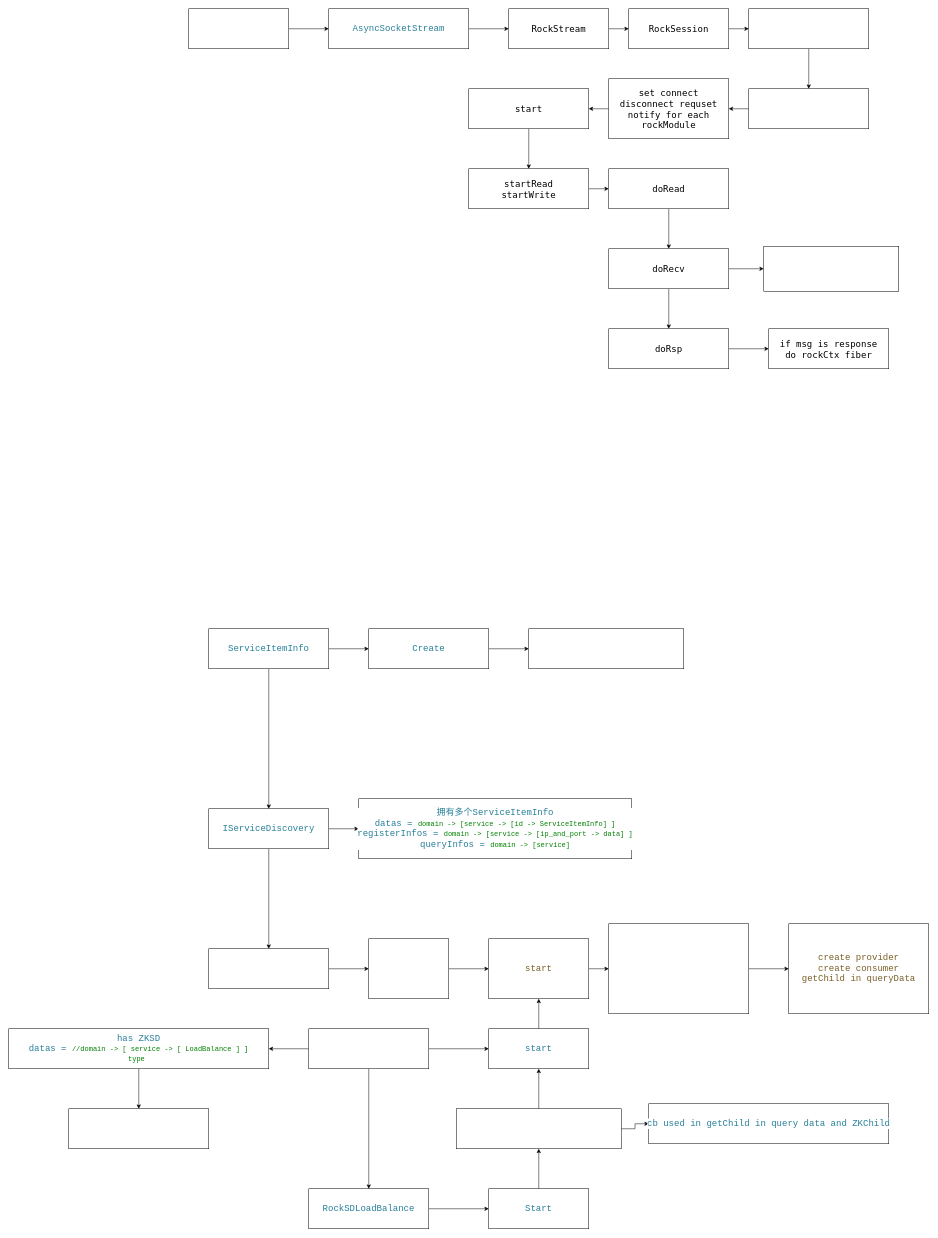
This 938x1238 diagram has some shape labels left out. Each missing label, with the centre of its shape:
"callback servivceChange update datas service <--> loaditem" goes at point 138,1128.
"From ip_port get ip and port set data" goes at point 606,648.
"get zkclient do onZKConnect registerInfo queryInfo queryData" goes at point 678,968.
"handleClient" goes at point 808,108.
"hosts selfInfo selfData client timer" goes at point 408,968.
"initConf rock_service set ZKSD callback servivceChange" goes at point 538,1128.
"read and handle msg request notify" goes at point 831,268.
"RockServer" goes at point 808,28.
"SDLoadBalance" goes at point 368,1048.
"SocketStream" goes at point 238,28.
"ZKServiceDiscovery" goes at point 268,968.
